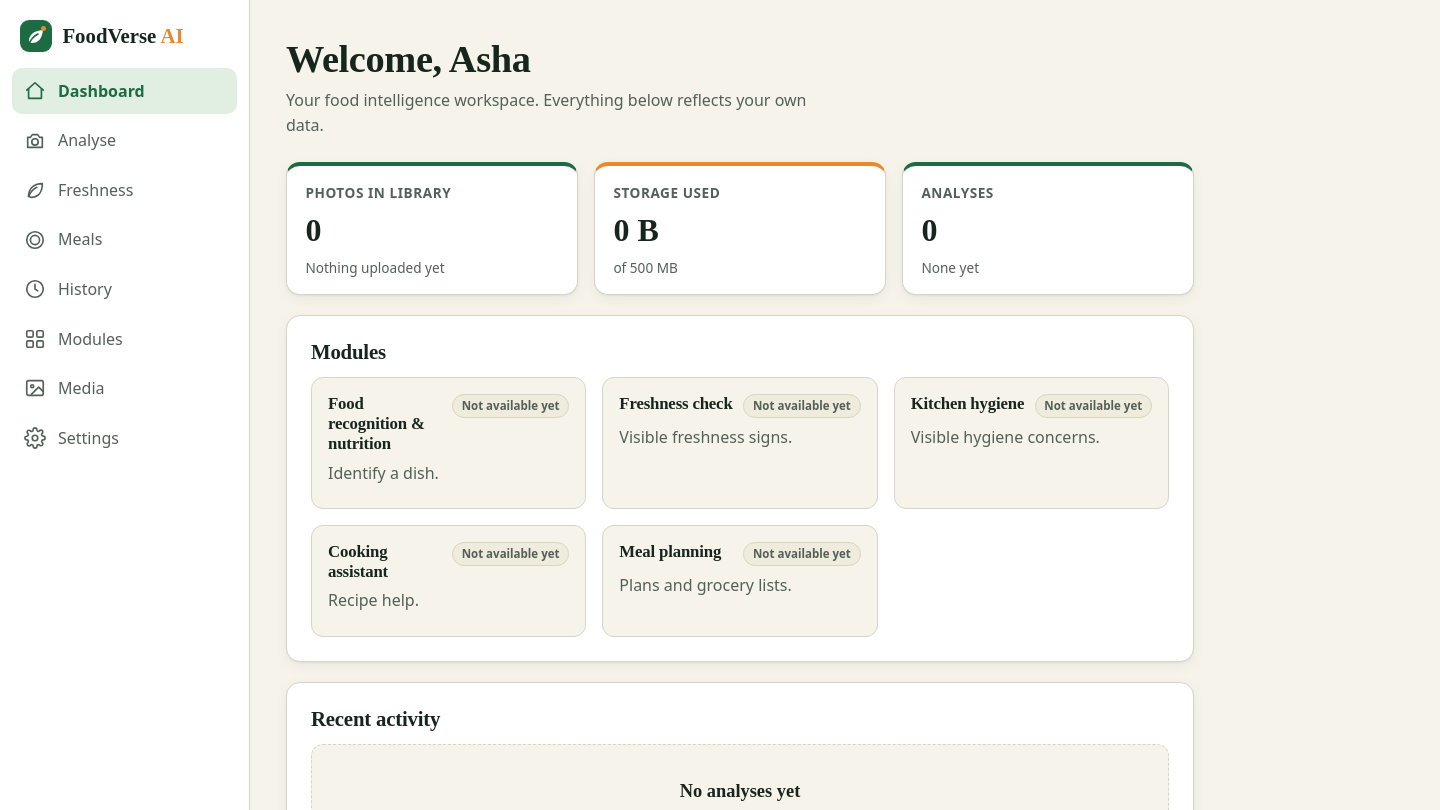
Test: navigation and modules › lists all five modules as not yet available
Step 1. Click the link "Modules" → (73, 339), box [24,328,123,350]
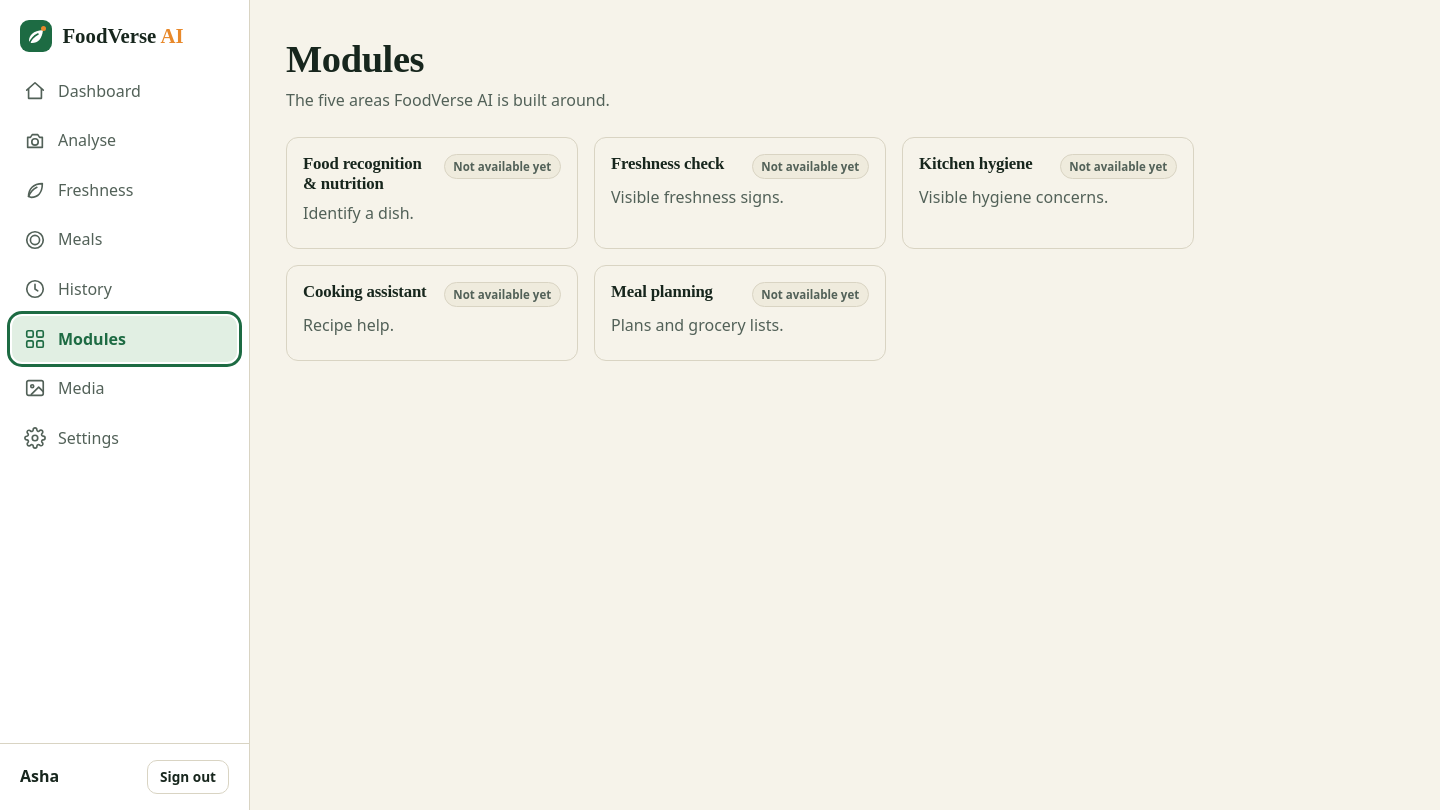
Expected: the link "Food recognition & nutrition" is shown, [303,154,422,194]
Result: the heading "Modules" is shown at [286,38,424,80]
